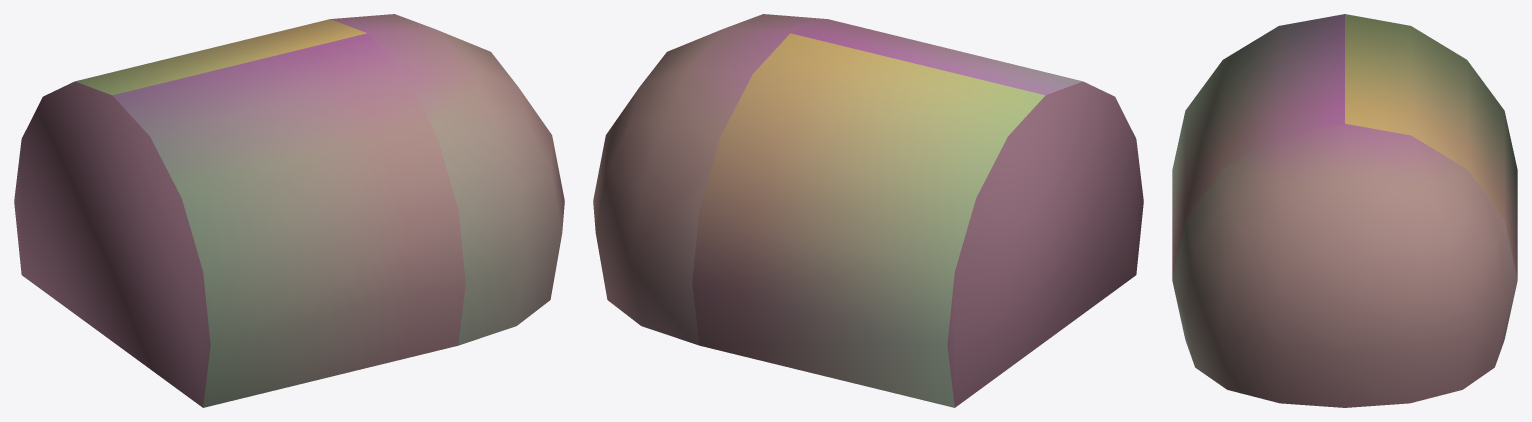
File: Pipe.Horizontal.TipB.glb
3 renders of one model, left to right at view 1: azimuth 30°, elevation 25°; view 2: azimuth 150°, elevation 25°; view 3: azimuth 270°, elevation 25°, orthographic. The views are drawn at different scales.
Visible parts, largest first — view 1: Pipe.Horizontal.TipB; view 2: Pipe.Horizontal.TipB; view 3: Pipe.Horizontal.TipB.
Part boxes in pixels (bbox=[...]): Pipe.Horizontal.TipB: bbox=[14, 14, 564, 407]; Pipe.Horizontal.TipB: bbox=[593, 14, 1143, 407]; Pipe.Horizontal.TipB: bbox=[1172, 14, 1517, 407].
Size of the model in its own units: 2.5 by 1.38 by 2.
Materials: 1 (1 with a texture image).
